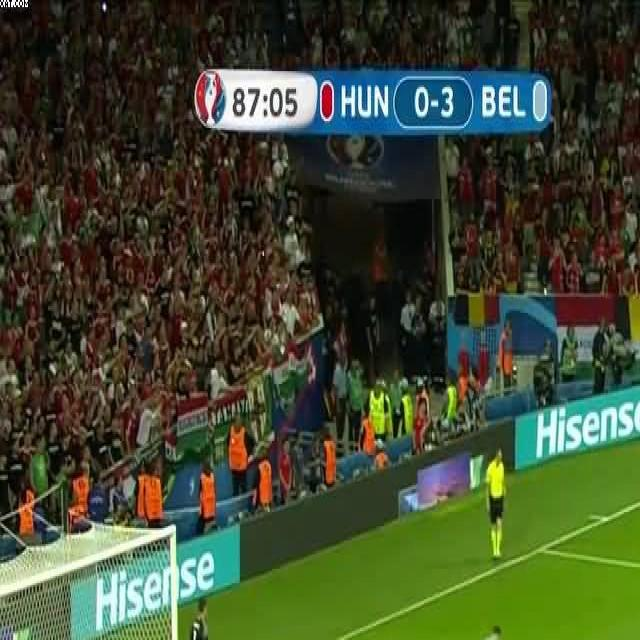player-white: (486, 448, 506, 560), (187, 595, 215, 640), (478, 624, 500, 640)
